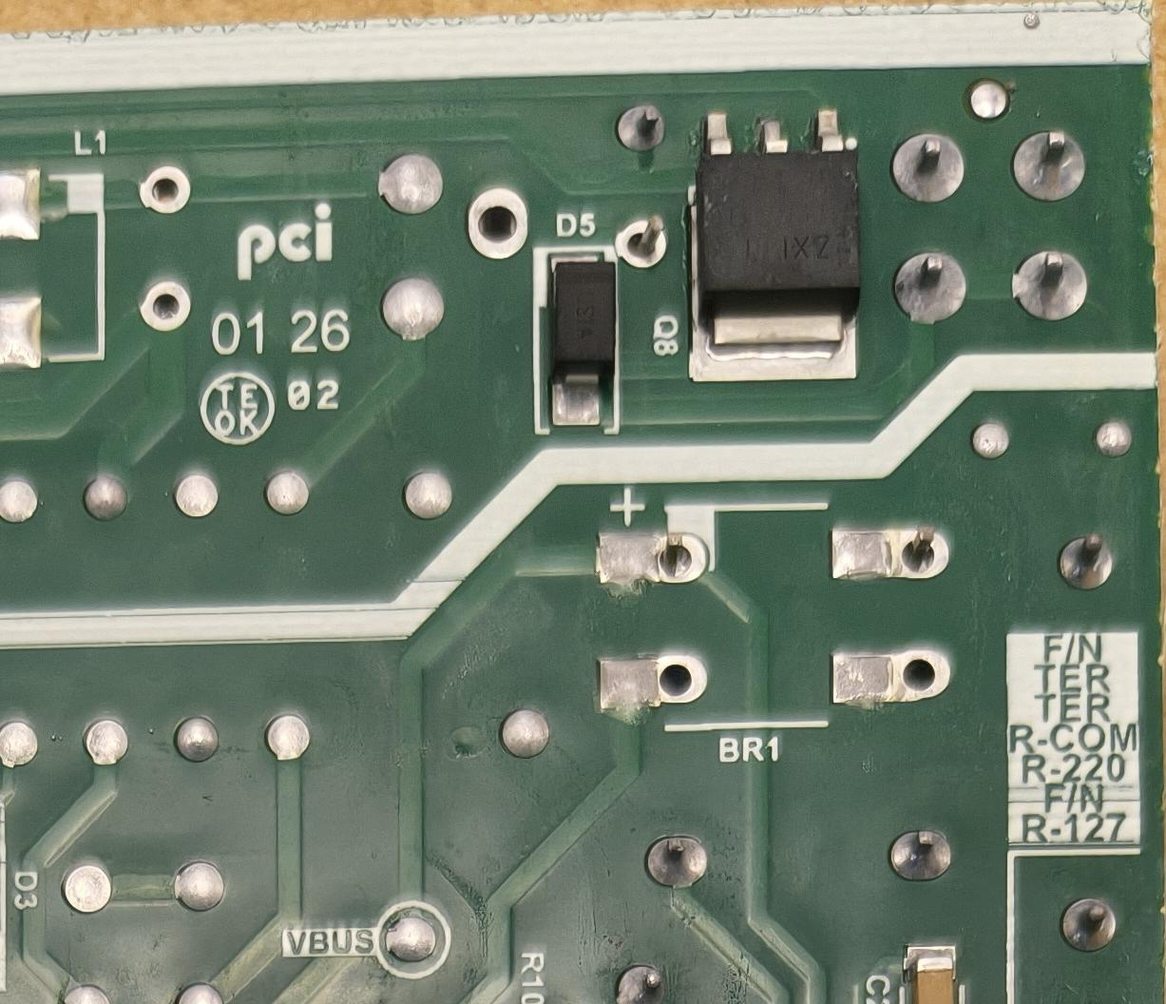Soldagem+: (880, 119, 969, 214), (1001, 239, 1091, 332), (895, 239, 983, 332), (1013, 121, 1091, 216), (605, 82, 673, 154), (1056, 889, 1123, 961), (1054, 526, 1126, 592), (887, 820, 951, 887), (642, 830, 714, 886)
SoldagemFaltando: (585, 515, 722, 606), (818, 518, 960, 585), (615, 213, 682, 277)
